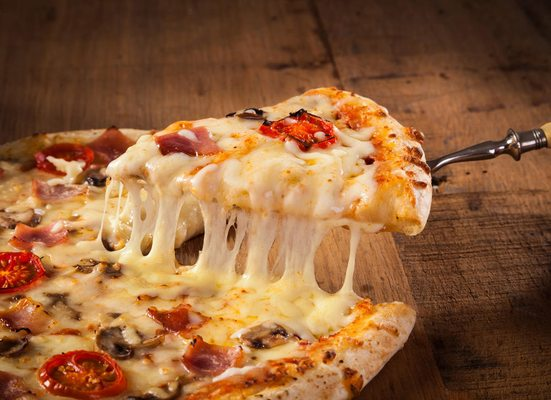sandwich: (0, 87, 441, 399)
sushi: (0, 87, 433, 399)
